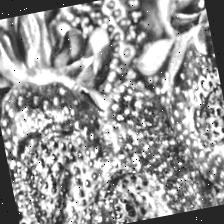Anthracnose Fruit Rot: (3, 120, 112, 224), (95, 160, 174, 224), (187, 81, 224, 155)
